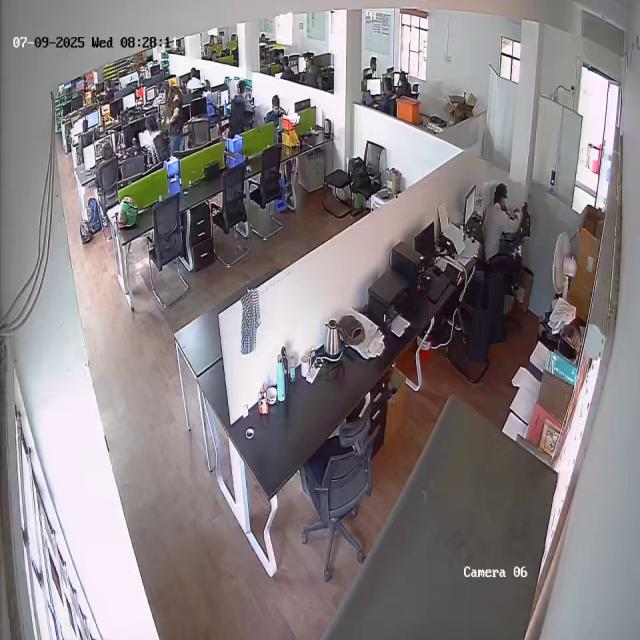person: (479, 181, 525, 274), (161, 86, 191, 158), (141, 115, 168, 164), (229, 79, 254, 120), (264, 94, 288, 130)
